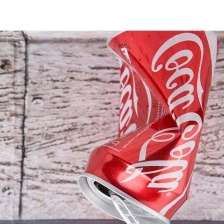can: (72, 28, 221, 224)
